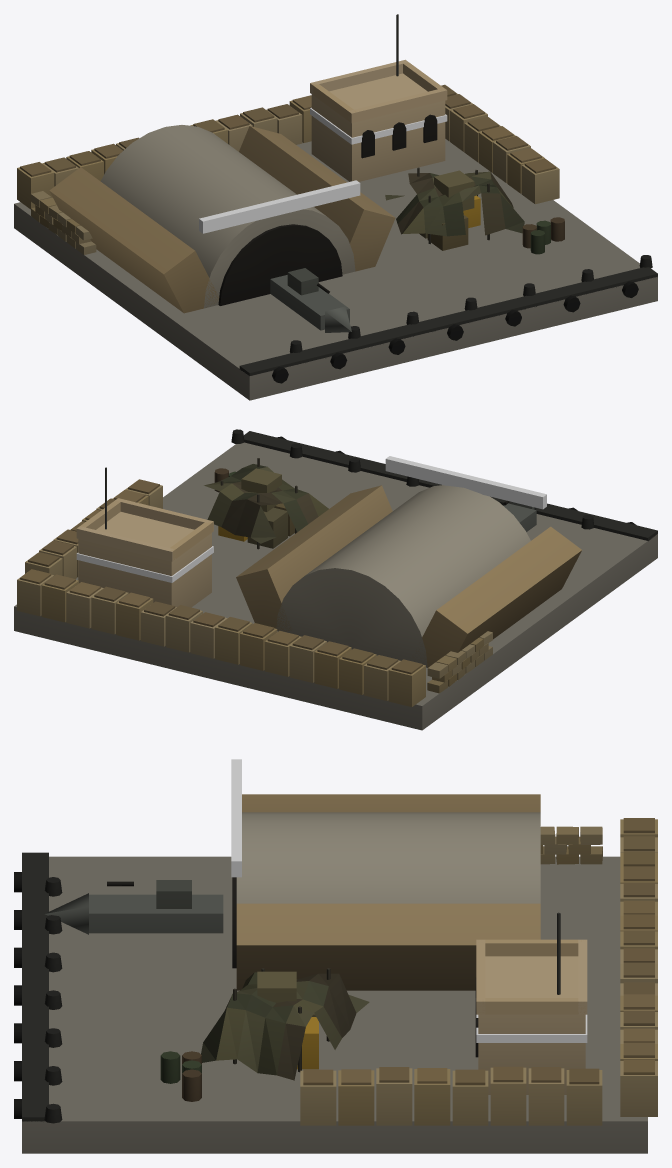
The model's file is m_shipyard_9a1393e3.glb.
3 views of the same model, one above another, from view 1: azimuth 30°, elevation 25°; view 2: azimuth 150°, elevation 25°; view 3: azimuth 270°, elevation 25° (orthographic). The views are drawn at different scales.
Parts seen in each view (by area): view 1: mesh; view 2: mesh; view 3: mesh.
Boxes of the visible parts, x1,y1,x2,y2 form: mesh: (14, 14, 657, 400); mesh: (14, 429, 657, 730); mesh: (14, 759, 657, 1153).
Bounding box in the file's own units: 71.98 × 25 × 72.
